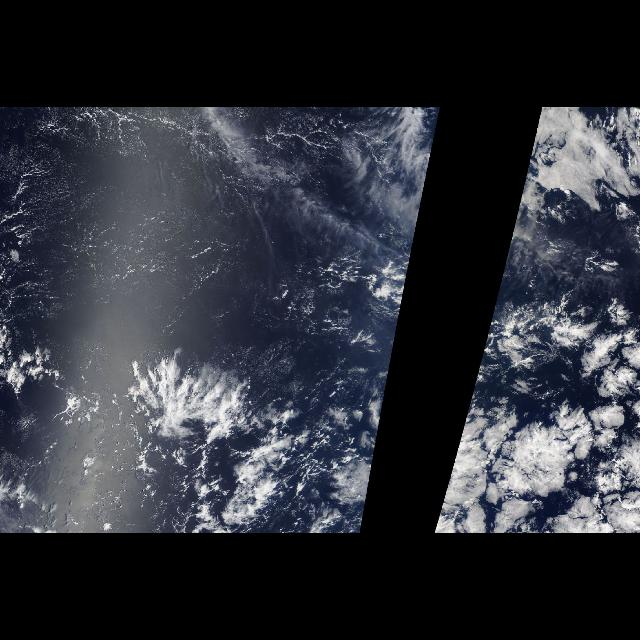Flower: (167, 299, 405, 533), (432, 299, 640, 533)
Sugar: (1, 107, 333, 343)
